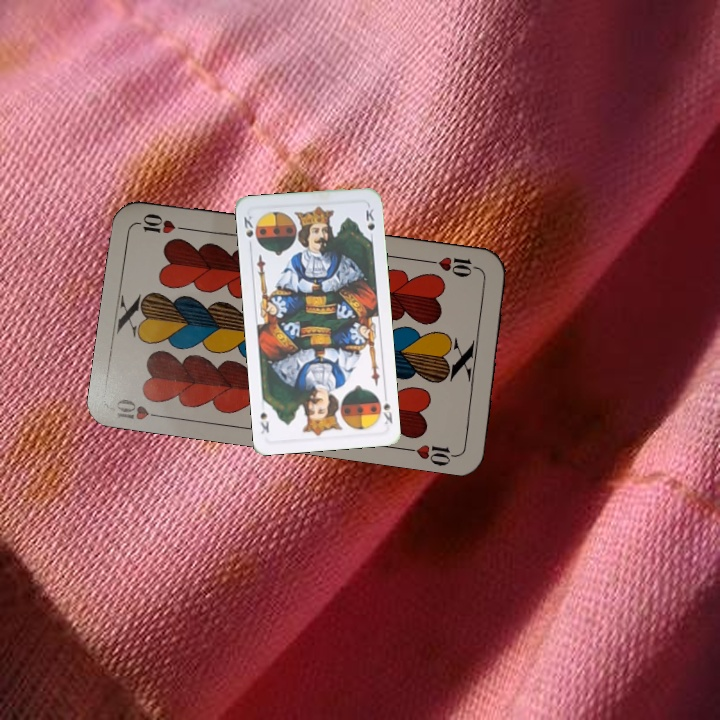H10: (112, 394, 170, 423), (424, 252, 483, 280)
SK: (373, 389, 395, 426), (240, 212, 256, 240)
